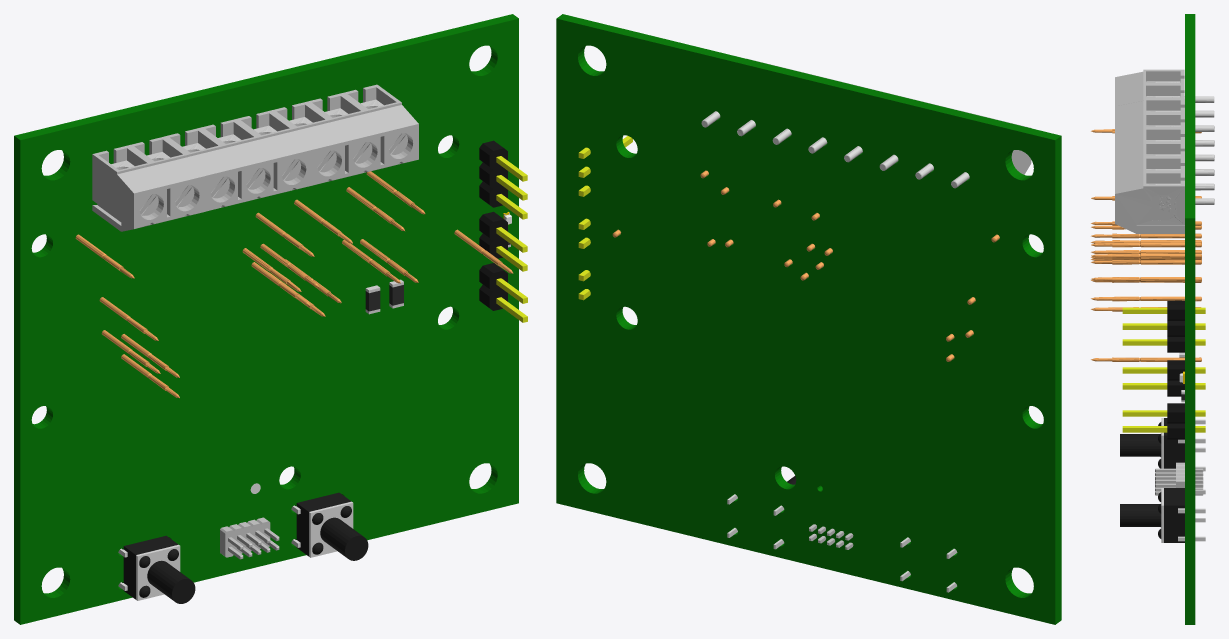
File: Pogo-pin.glb
The picture shows the model from 3 angles, left to right: view 1: azimuth 30°, elevation 25°; view 2: azimuth 150°, elevation 25°; view 3: azimuth 270°, elevation 25°; orthographic projection. The views are drawn at different scales.
Visible parts, largest first — view 1: empty_57, empty_101, empty_96, empty_114, empty_40, empty_34, empty_45, empty_39, empty_16, empty_25; view 2: empty_57; view 3: empty_57, empty_101, empty_96, empty_114, empty_45, empty_34, empty_40, empty_39, empty_73, empty_61, empty_69, empty_62 (+29 smaller).
Boxes of the visible parts, left/top/right/bottom form: empty_57: left=14, top=14, right=518, bottom=624; empty_101: left=270, top=84, right=418, bottom=185; empty_96: left=164, top=110, right=311, bottom=211; empty_114: left=92, top=137, right=205, bottom=231; empty_40: left=320, top=517, right=368, bottom=560; empty_34: left=147, top=560, right=195, bottom=603; empty_45: left=296, top=492, right=351, bottom=556; empty_39: left=123, top=535, right=178, bottom=599; empty_16: left=136, top=544, right=180, bottom=600; empty_25: left=309, top=501, right=353, bottom=557; empty_57: left=556, top=14, right=1061, bottom=624; empty_57: left=1185, top=14, right=1195, bottom=624; empty_101: left=1115, top=142, right=1184, bottom=233; empty_96: left=1115, top=99, right=1184, bottom=149; empty_114: left=1115, top=69, right=1184, bottom=106; empty_45: left=1164, top=488, right=1184, bottom=542; empty_34: left=1120, top=434, right=1161, bottom=456; empty_40: left=1120, top=504, right=1161, bottom=526; empty_39: left=1164, top=418, right=1184, bottom=468; empty_73: left=1091, top=253, right=1201, bottom=258; empty_61: left=1091, top=242, right=1201, bottom=247; empty_69: left=1091, top=296, right=1201, bottom=301; empty_62: left=1091, top=233, right=1201, bottom=238.
Size of the model in its own units: 70 by 65 by 17.97.
